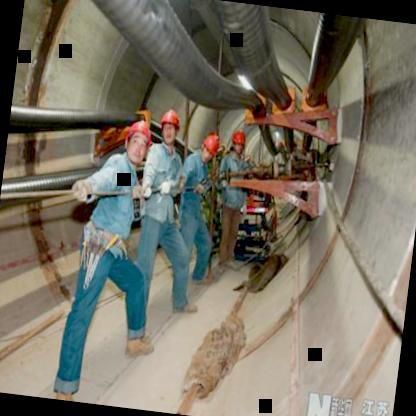helmet: (123, 114, 153, 160), (156, 106, 182, 147), (198, 130, 222, 165), (231, 128, 248, 154)
